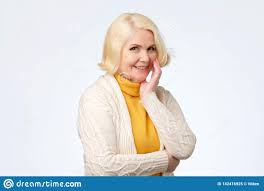white_female: (104, 18, 175, 101)
